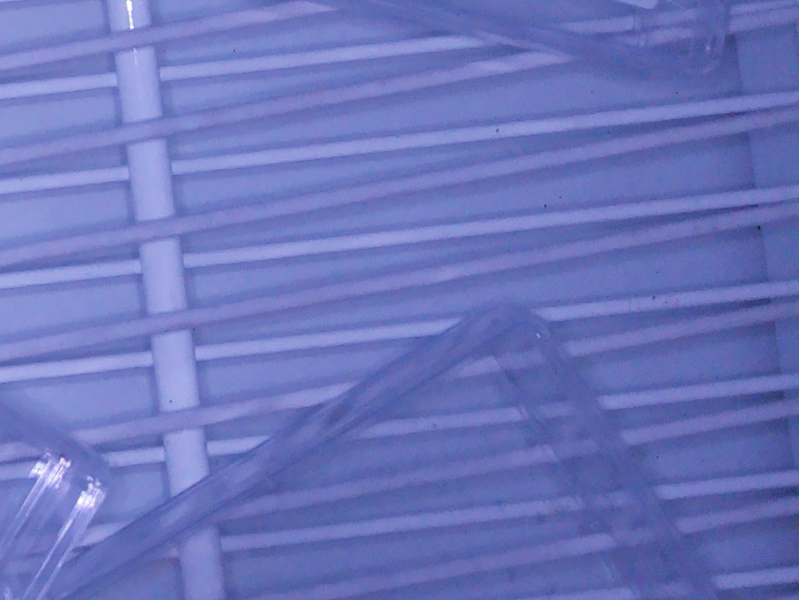plate: (25, 299, 719, 600), (336, 1, 735, 92), (1, 402, 114, 600)
